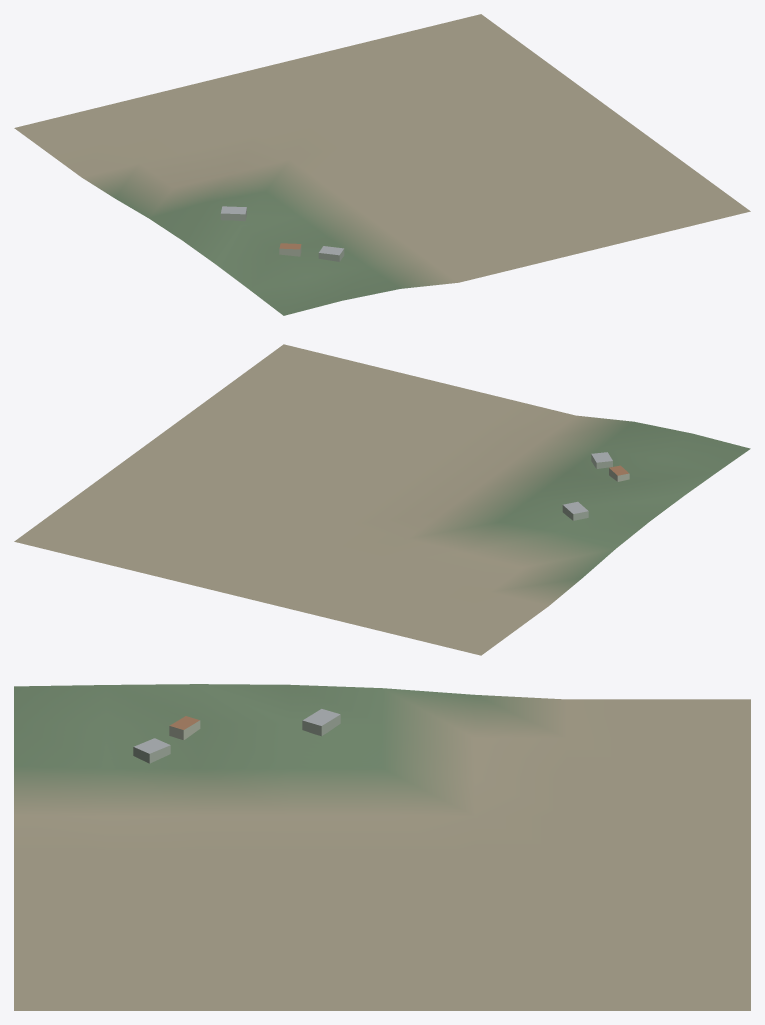
3 views of the same model, one above another, from view 1: azimuth 30°, elevation 25°; view 2: azimuth 150°, elevation 25°; view 3: azimuth 270°, elevation 25° (orthographic). The views are drawn at different scales.
Visible parts, largest first — view 1: Lo; view 2: Lo; view 3: Lo.
Boxes of the visible parts, left/top/right/bottom form: Lo: left=14, top=14, right=750, bottom=315; Lo: left=14, top=344, right=750, bottom=655; Lo: left=14, top=684, right=750, bottom=1010.
Size of the model in its own units: 256 by 9.13 by 256.
